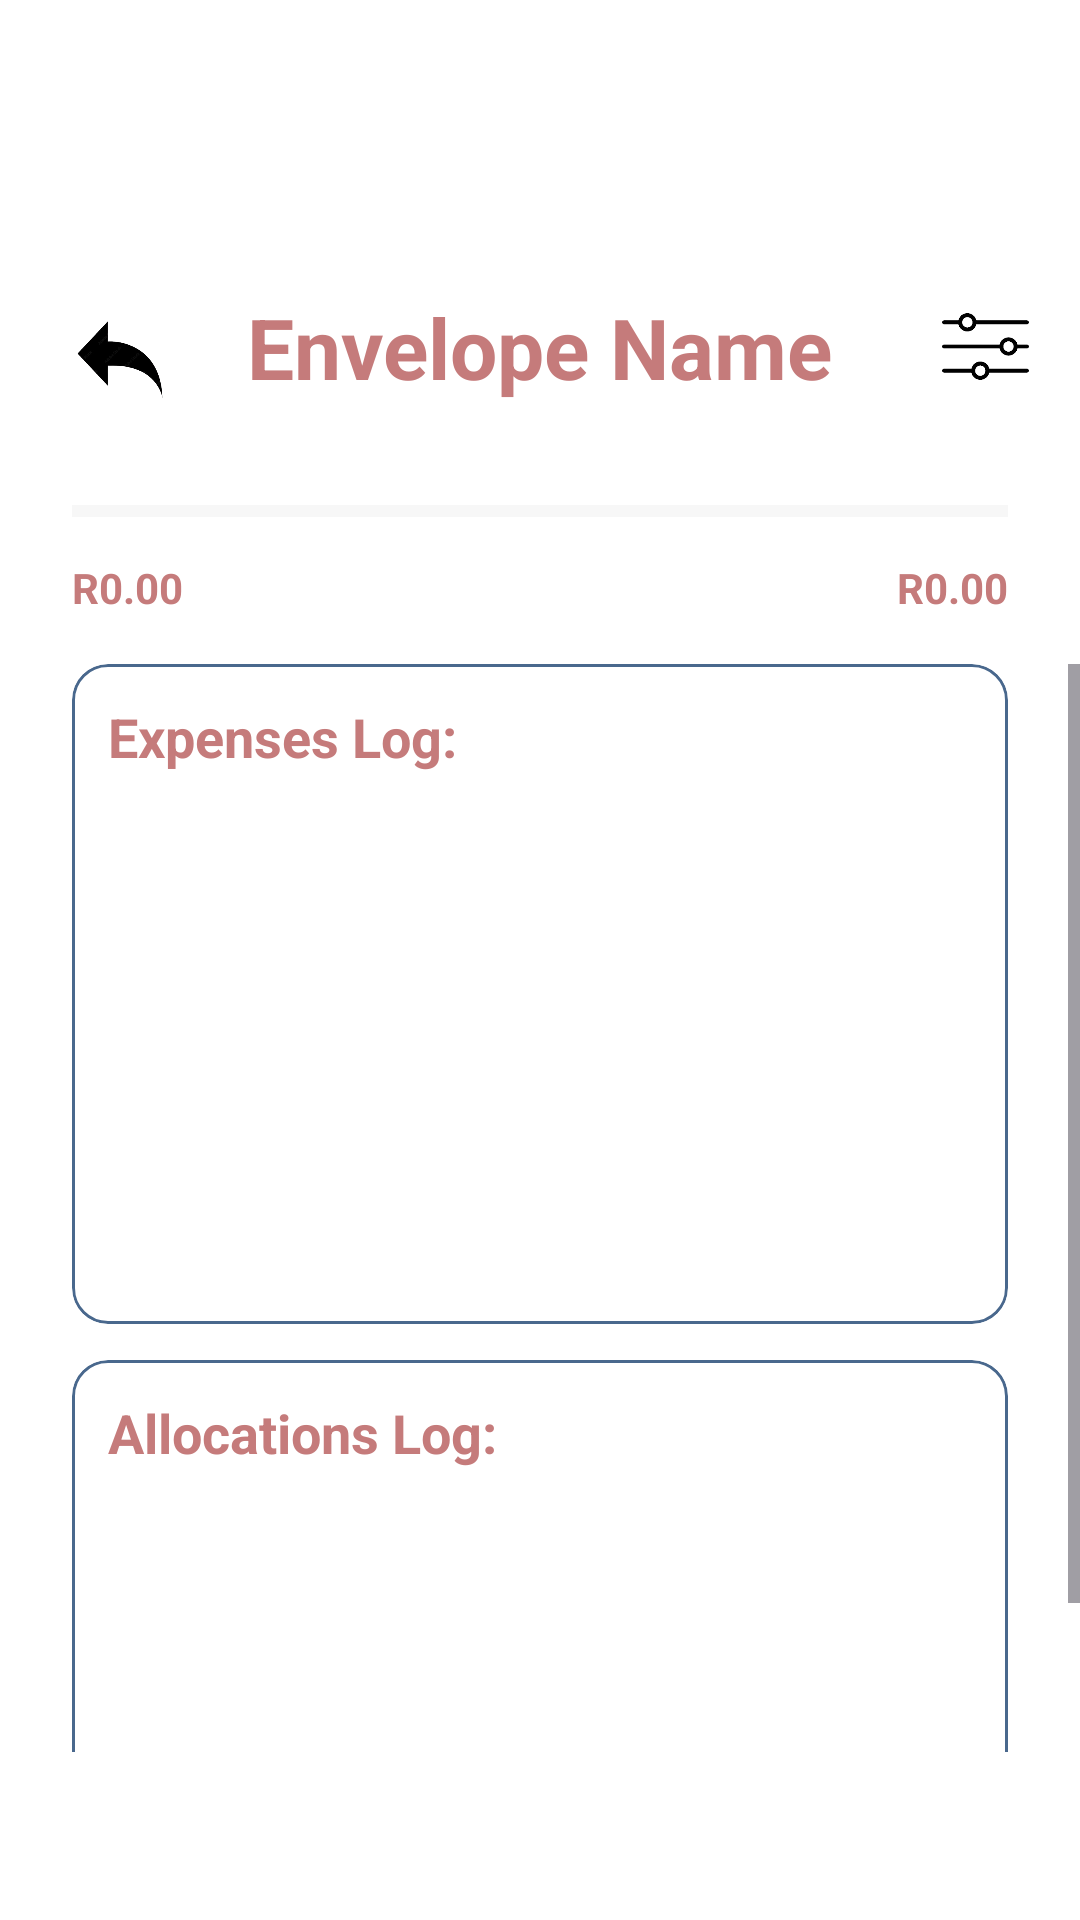

Screen size 1080×1920. Icon name, then its box in pixels as (left=x1, top=y1, right=x2, bottom=y2):
back: (left=78, top=321, right=163, bottom=398)
Envelope Settings: (left=942, top=313, right=1029, bottom=380)
